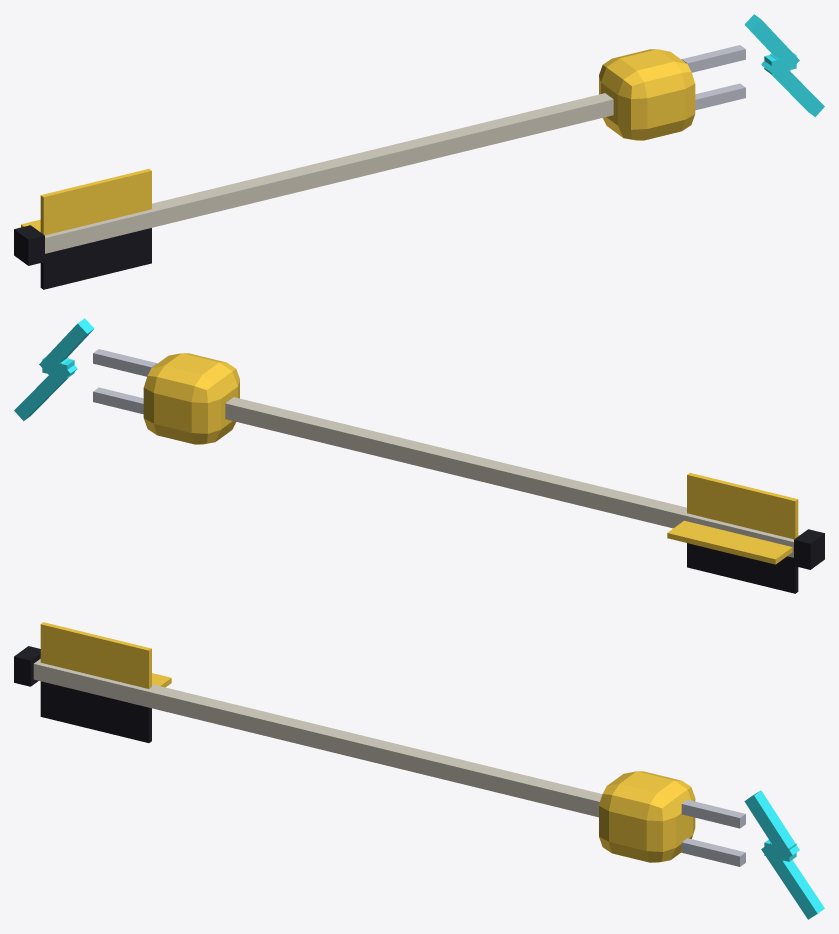
Rendered from fleche_court_circuit.glb.
3 views of the same model, one above another, from view 1: azimuth 30°, elevation 25°; view 2: azimuth 150°, elevation 25°; view 3: azimuth 330°, elevation 25° (orthographic).
Visible parts, largest first — view 1: p_box.3498, p_rbox.571, p_box.3499, p_box.3500, p_box.3502, p_box.3505, p_box.3507, p_box.3503, p_box.3504; view 2: p_box.3498, p_rbox.571, p_box.3499, p_box.3500, p_box.3501, p_box.3502, p_box.3507, p_box.3505, p_box.3503, p_box.3504; view 3: p_box.3498, p_rbox.571, p_box.3499, p_box.3500, p_box.3505, p_box.3507, p_box.3504, p_box.3503, p_box.3502.
Boxes of the visible parts, x1,y1,x2,y2 form: p_box.3498: (39, 93, 613, 253); p_rbox.571: (599, 49, 695, 140); p_box.3499: (40, 169, 151, 235); p_box.3500: (40, 228, 151, 289); p_box.3502: (14, 225, 44, 265); p_box.3505: (744, 14, 799, 70); p_box.3507: (761, 54, 824, 117); p_box.3503: (681, 45, 745, 72); p_box.3504: (695, 83, 745, 110); p_box.3498: (225, 397, 799, 557); p_rbox.571: (143, 353, 239, 444); p_box.3499: (687, 473, 798, 539); p_box.3500: (687, 543, 798, 593); p_box.3501: (667, 520, 792, 564); p_box.3502: (794, 529, 824, 569); p_box.3507: (14, 358, 77, 421); p_box.3505: (39, 318, 94, 374); p_box.3503: (93, 349, 157, 376); p_box.3504: (93, 387, 143, 414); p_box.3498: (33, 659, 602, 817); p_rbox.571: (599, 771, 695, 862); p_box.3499: (40, 622, 151, 688); p_box.3500: (40, 681, 151, 742); p_box.3505: (744, 790, 799, 860); p_box.3507: (761, 843, 824, 919); p_box.3504: (681, 838, 745, 866); p_box.3503: (681, 799, 745, 828); p_box.3502: (14, 646, 40, 686).
Bounding box in the file's own units: 0.959 × 0.1272 × 0.084.
